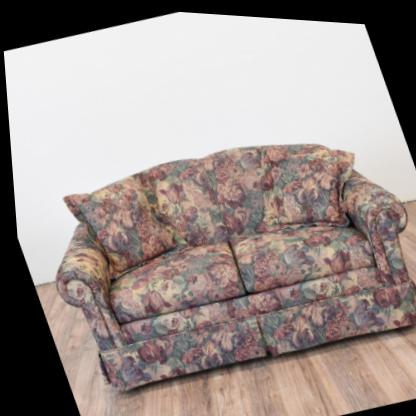Sofa: (15, 92, 416, 415)
